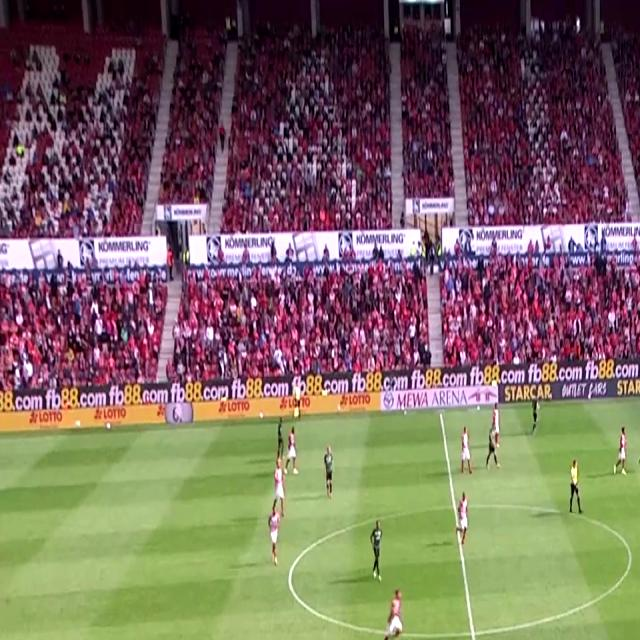referee: (564, 456, 588, 521)
soccer-player: (372, 583, 408, 640), (265, 496, 289, 570), (363, 518, 389, 586), (449, 488, 473, 555), (278, 420, 303, 479), (612, 422, 635, 481), (321, 444, 343, 504), (484, 410, 505, 472), (458, 426, 480, 482), (636, 419, 640, 472)
